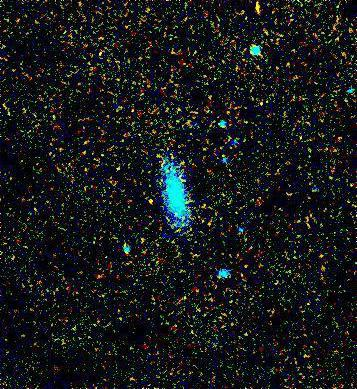star: (137, 188, 167, 218)
